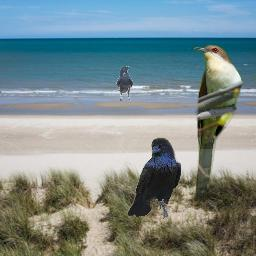Crow: (128, 137, 181, 219), (116, 66, 134, 101)
Cuckoo: (192, 44, 244, 197)
